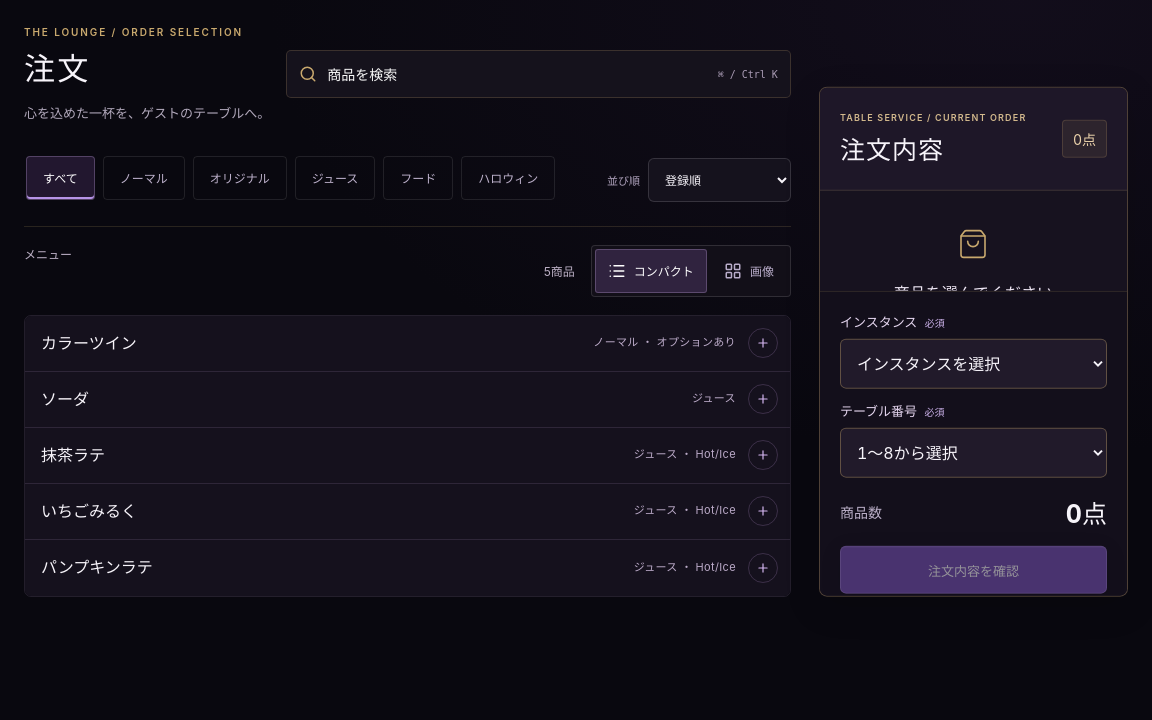
it: POS注文フロー › 検索・Ctrl K・ノーマルの必須設定を維持する
The width and height of the screenshot is (1152, 720).
Press k
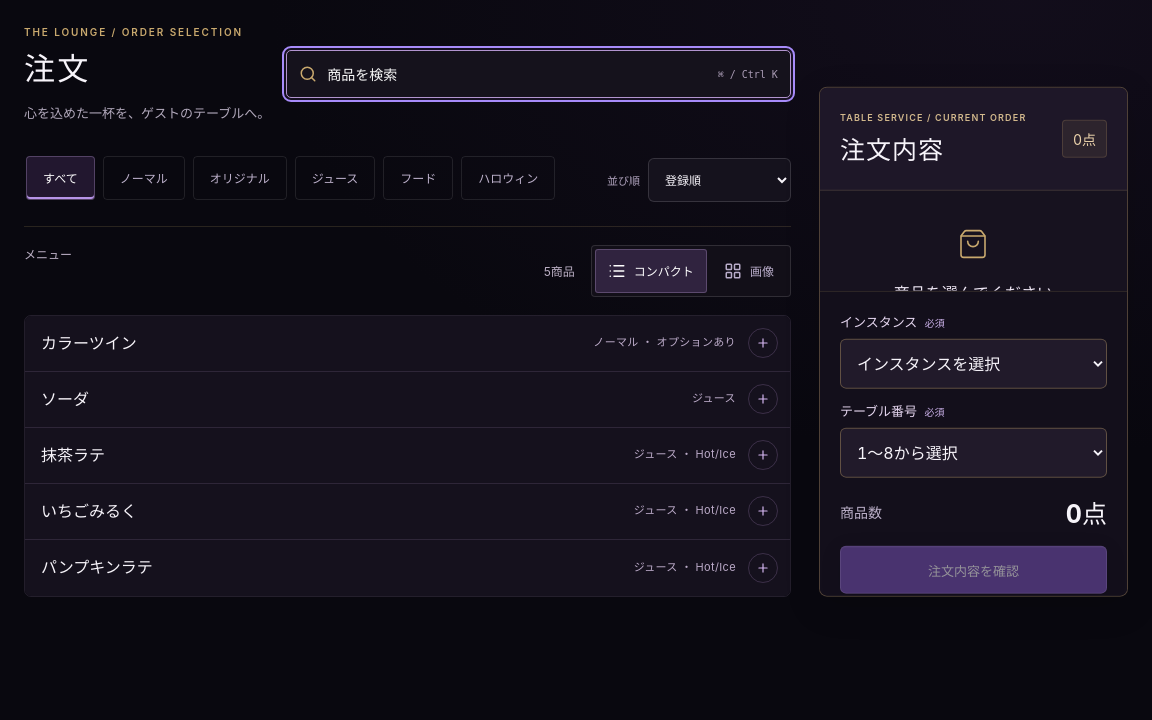
Type "ジュース" into the field named "商品を検索". click: (517, 74)
box: [327,52,708,96]
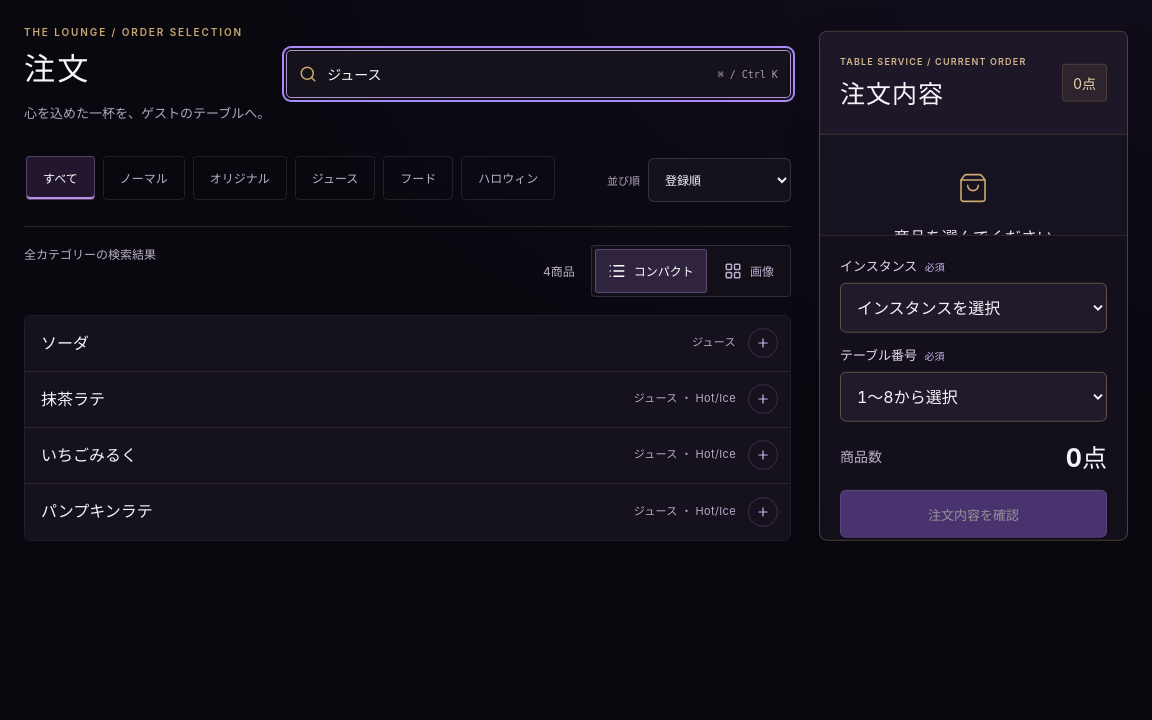
Expected: the button with aria-label "ソーダをカートに追加" is shown, [25,316,790,372]
Now the button "カラーツインをカスタマイズ" is gone
Clear the field named "商品を検索". click: (517, 74)
box: [327,52,708,96]
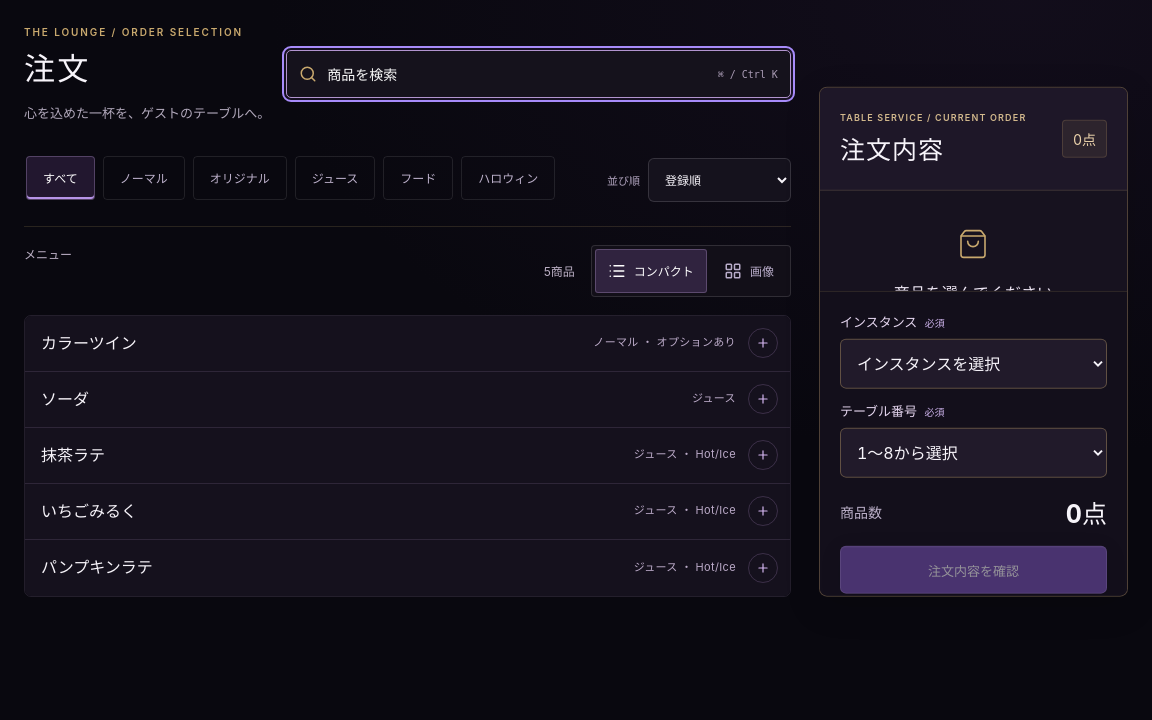
Click the button with aria-label "カラーツインをカスタマイズ". click: (89, 343)
box: [25,316,790,372]
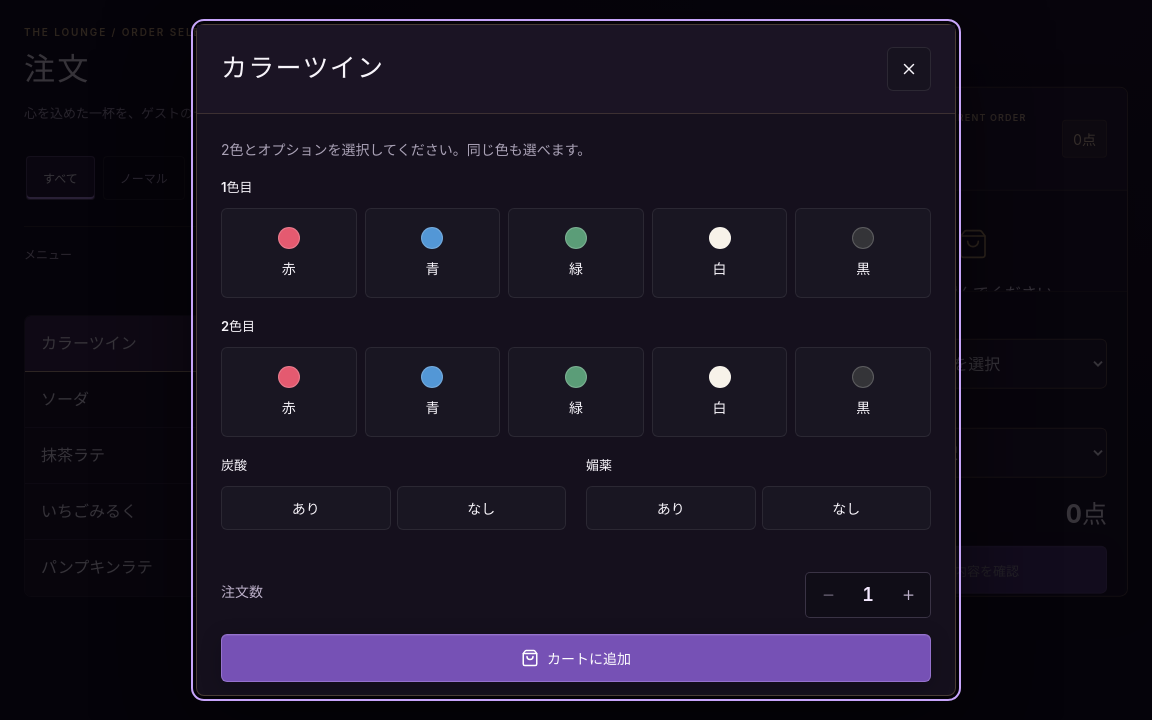
Click the button "カートに追加". click: (576, 658)
box: [221,634,931,682]
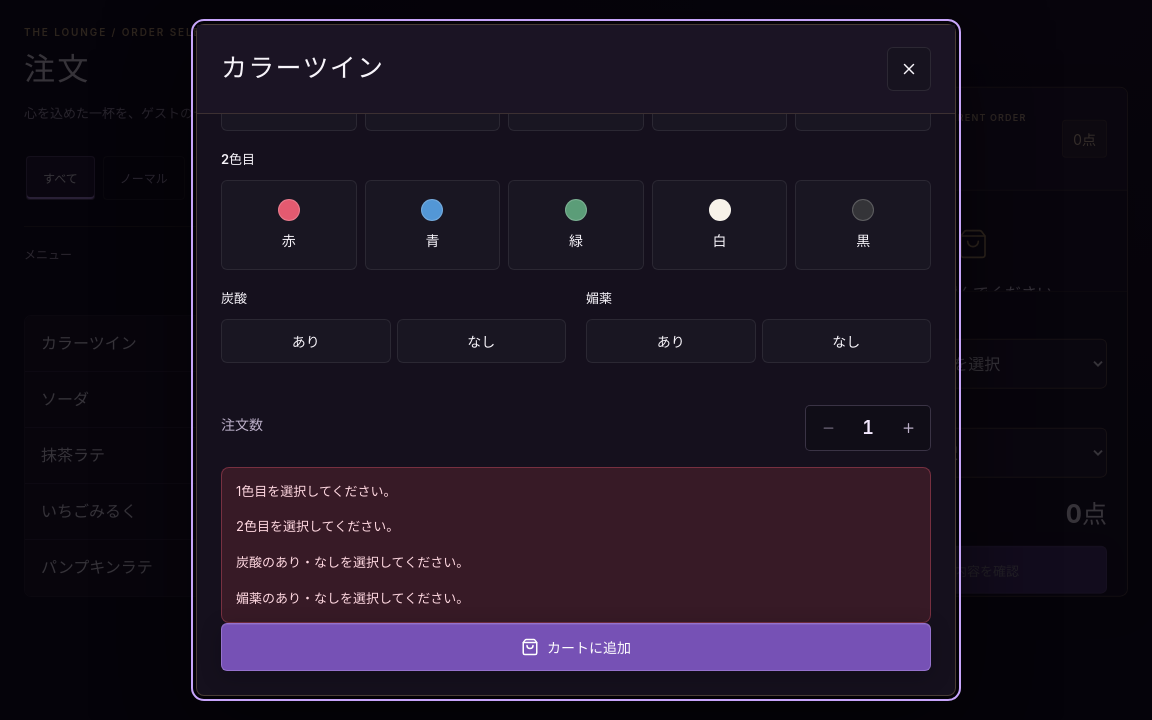
Now the message shows "1色目", box [221,466,931,622]
